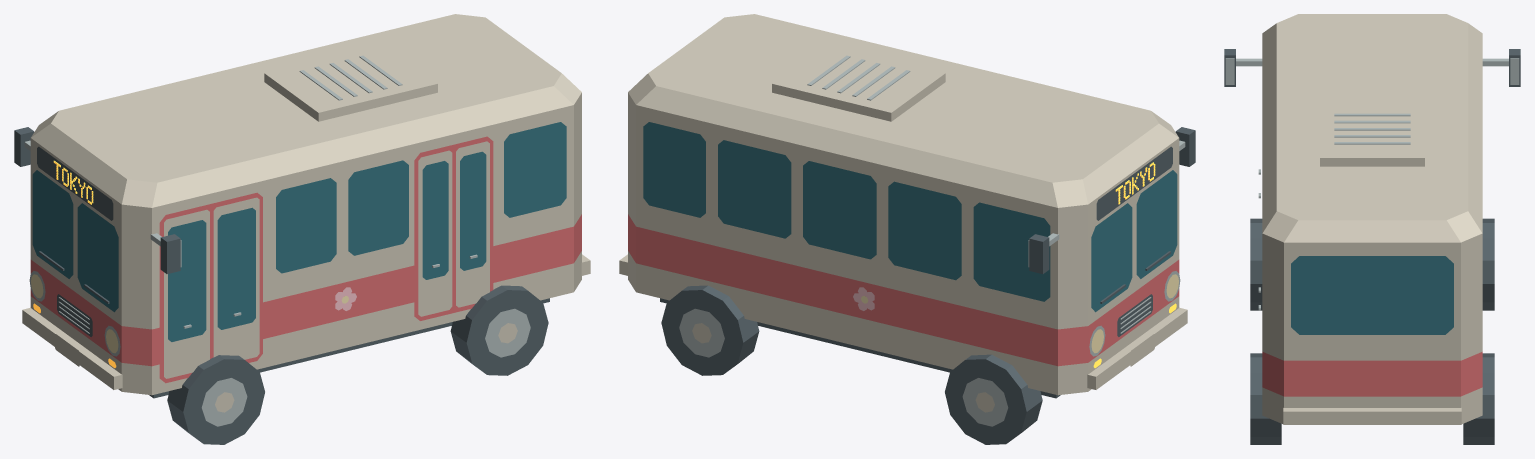
The model's file is japanese-low-poly-bus.glb.
3 renders of one model, left to right at view 1: azimuth 30°, elevation 25°; view 2: azimuth 150°, elevation 25°; view 3: azimuth 270°, elevation 25°, orthographic. The views are drawn at different scales.
Visible parts, largest first — view 1: Faceted roof shoulders, Cream cabin, Left passenger window (×3), Door glazing (×4), Red belt, Cream door leaf (×4), Twelve-sided tire (×2), Lower cream body, Roof vent, Front windshield (×2), Door frame (×2), Silver wheel hub (×2) (+5 smaller); view 2: Faceted roof shoulders, Cream cabin, Right passenger window (×5), Red belt, Lower cream body, Twelve-sided tire (×2), Roof vent, Front windshield (×2), Silver wheel hub (×2), Front cream bumper, Destination display, Side mirror (×2) (+2 smaller); view 3: Faceted roof shoulders, Cream cabin, Rear window, Red belt, Roof vent, Twelve-sided tire (×4), Lower cream body, Rear cream bumper, Tail lamp (×2), Vent slat (×2).
Part boxes in pixels (x1,y1,x2,y2): Faceted roof shoulders: (31,14,581,207); Cream cabin: (30,93,581,329); Left passenger window (×3): (276,122,566,273); Door glazing (×4): (168,151,486,341); Red belt: (30,214,581,366); Cream door leaf (×4): (164,141,489,378); Twelve-sided tire (×2): (167,285,548,444); Lower cream body: (30,251,581,395); Roof vent: (264,44,437,121); Front windshield (×2): (32,170,118,312); Door frame (×2): (159,136,493,383); Silver wheel hub (×2): (201,308,530,426); Faceted roof shoulders: (628,14,1178,207); Cream cabin: (628,93,1179,329); Right passenger window (×5): (643,122,1050,301); Red belt: (628,214,1179,366); Lower cream body: (628,251,1179,395); Twelve-sided tire (×2): (661,285,1042,444); Roof vent: (772,44,945,121); Front windshield (×2): (1091,170,1177,312); Silver wheel hub (×2): (679,308,1008,426); Front cream bumper: (1087,307,1187,389); Destination display: (1096,146,1172,220); Side mirror (×2): (1029,127,1195,273); Faceted roof shoulders: (1262,14,1482,242); Cream cabin: (1262,233,1482,360); Rear window: (1291,256,1453,334); Red belt: (1262,351,1482,396); Roof vent: (1320,101,1424,166); Twelve-sided tire (×4): (1250,218,1494,444); Lower cream body: (1262,387,1482,423); Rear cream bumper: (1283,408,1461,424); Tail lamp (×2): (1291,365,1453,391); Vent slat (×2): (1334,113,1410,123).
Size of the model in its own units: 0.0896 by 0.0494 by 0.0496.
